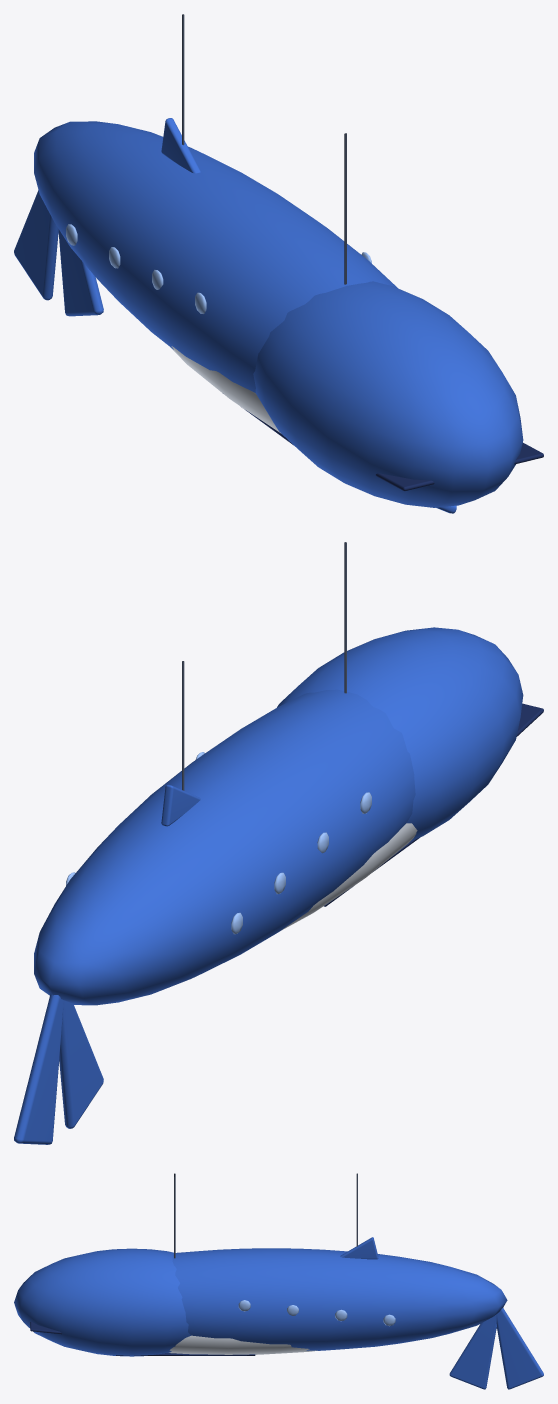
Rendered from aqua_whale.glb.
3 views of the same model, one above another, from view 1: azimuth 30°, elevation 25°; view 2: azimuth 150°, elevation 25°; view 3: azimuth 270°, elevation 25° (orthographic). The views are drawn at different scales.
Parts seen in each view (by area): view 1: Whale; view 2: Whale; view 3: Whale.
Boxes of the visible parts, bbox=[...] form: Whale: bbox=[14, 14, 543, 513]; Whale: bbox=[14, 542, 543, 1144]; Whale: bbox=[14, 1173, 543, 1389].
Bounding box in the file's own units: 2.24 × 4.43 × 9.88.
